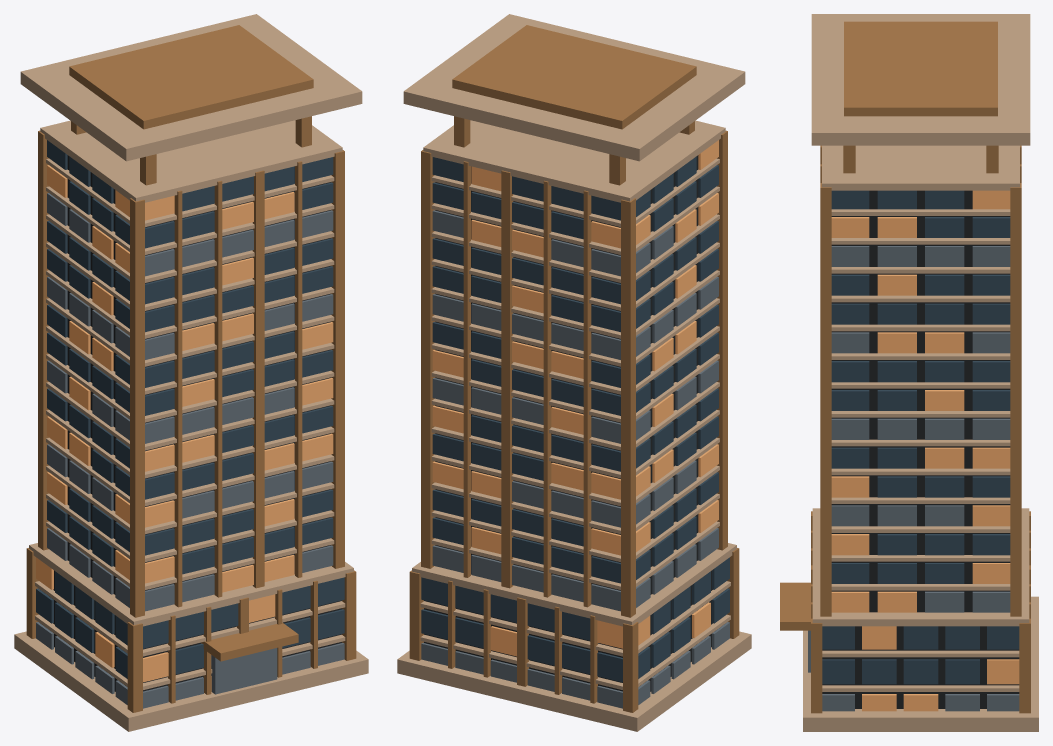
The model's file is mumbai-valencia.glb.
3 renders of one model, left to right at view 1: azimuth 30°, elevation 25°; view 2: azimuth 150°, elevation 25°; view 3: azimuth 270°, elevation 25°, orthographic. The views are drawn at different scales.
Visible parts, largest first — view 1: Facade, Entrances and podium, Roof detailing; view 2: Facade, Entrances and podium, Roof detailing; view 3: Facade, Entrances and podium, Roof detailing.
Part boxes in pixels (<box>): Facade: <box>38,120,344,617</box>; Entrances and podium: <box>14,543,368,731</box>; Roof detailing: <box>20,14,362,185</box>; Facade: <box>421,120,727,617</box>; Entrances and podium: <box>397,543,751,731</box>; Roof detailing: <box>403,14,745,185</box>; Facade: <box>820,145,1021,616</box>; Entrances and podium: <box>780,508,1038,731</box>; Roof detailing: <box>811,14,1030,173</box>.
Bounding box in the file's own units: 3.24 × 7.59 × 2.93.
